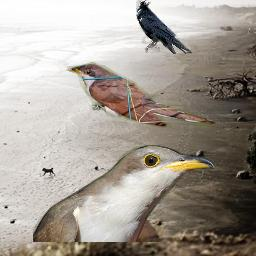Crow: (136, 0, 192, 54)
Cuckoo: (33, 145, 214, 242), (66, 60, 219, 134)
